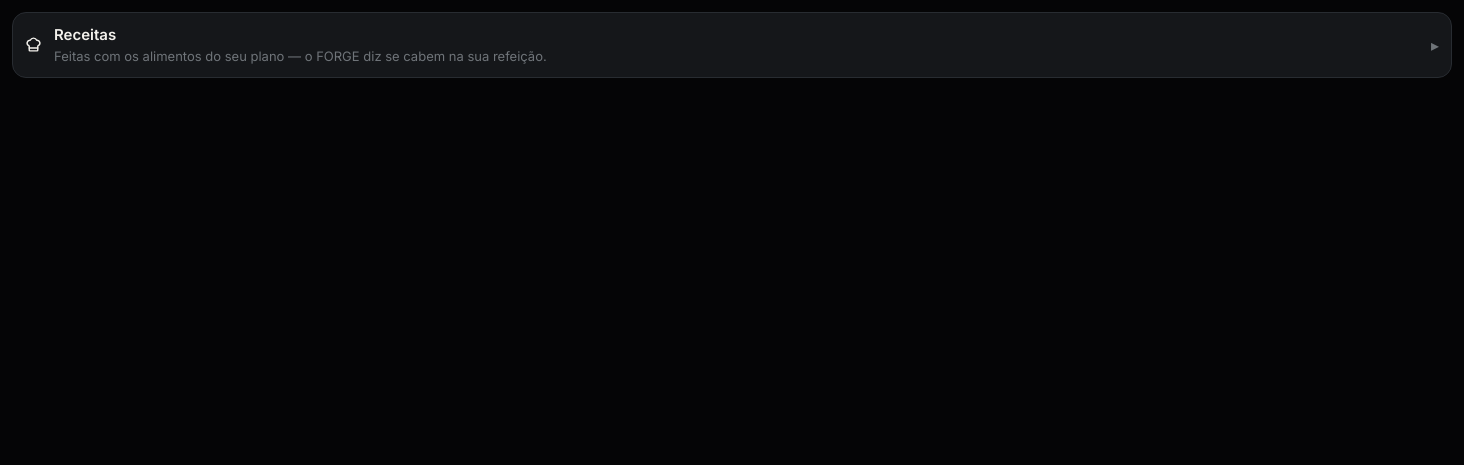
Test: a frase concorda em genero: sobremesa e feminino
Click the button with test id "abrir-receitas".
click(85, 34)  # box [12, 12, 1452, 78]
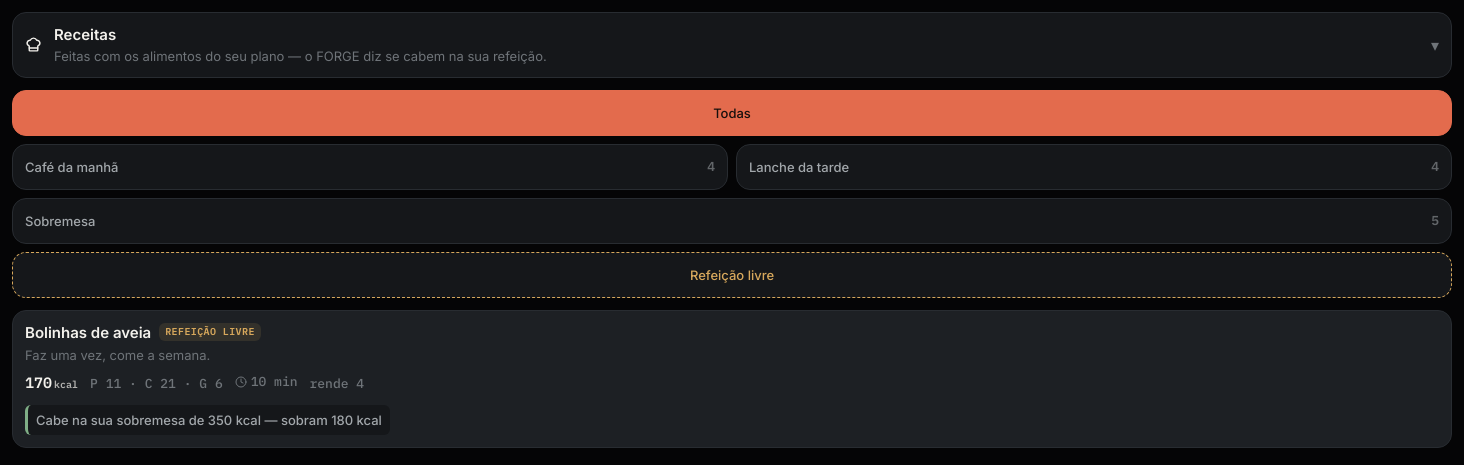
Expected: the text with test id "encaixe-bolinha-energetica" shows "na sua sobremesa", [36, 412, 382, 428]
